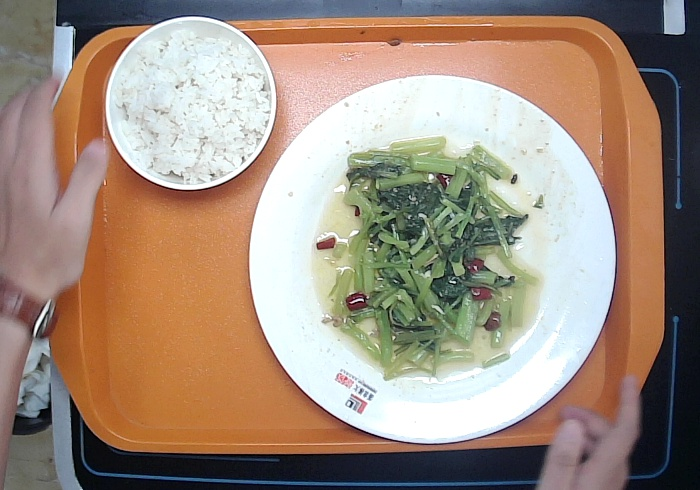ZNLD-Da_Yuan_Pan: (247, 73, 619, 445)
ZNLD-Fan_Wan: (102, 13, 280, 192)
